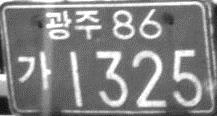1: (68, 49, 85, 110)
2: (131, 49, 167, 108)
3: (95, 49, 128, 108)
5: (171, 49, 203, 108)
6: (138, 8, 163, 40)
8: (112, 8, 135, 40)
가: (17, 50, 52, 92)
광주_O: (43, 9, 102, 40)
